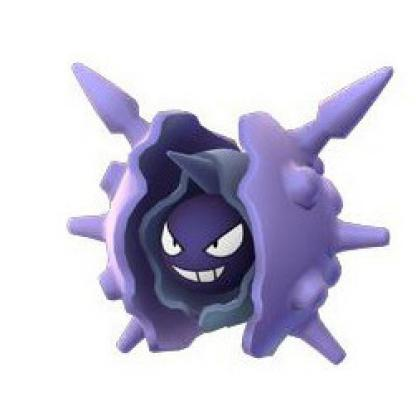Cloyster: (52, 44, 401, 378)
